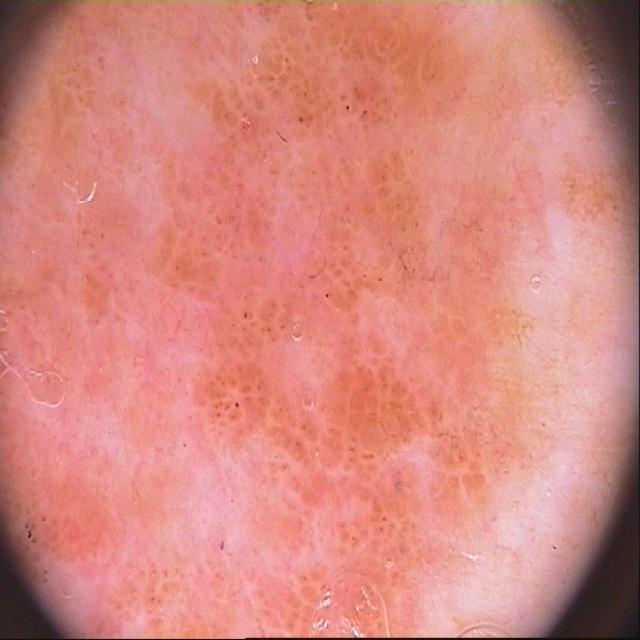Skin-Cancer Melanoma: (21, 0, 640, 636)
